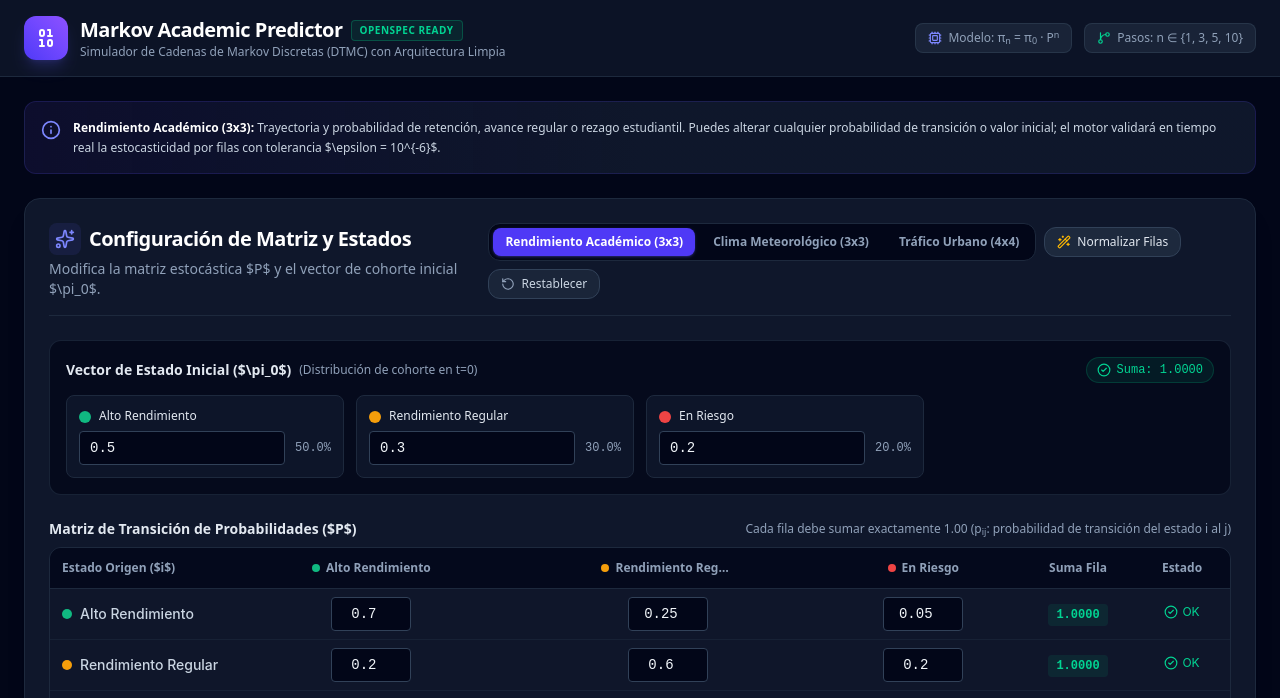
App Integration Tests (OpenSpec UI & Engine) › Restablece los valores al presionar el botón Restablecer
The width and height of the screenshot is (1280, 698).
# Modificar celda
Replace the text in the number field with test id "matrix-cell-0-0" with "0.99" at (371, 614), box [331,597,411,631]
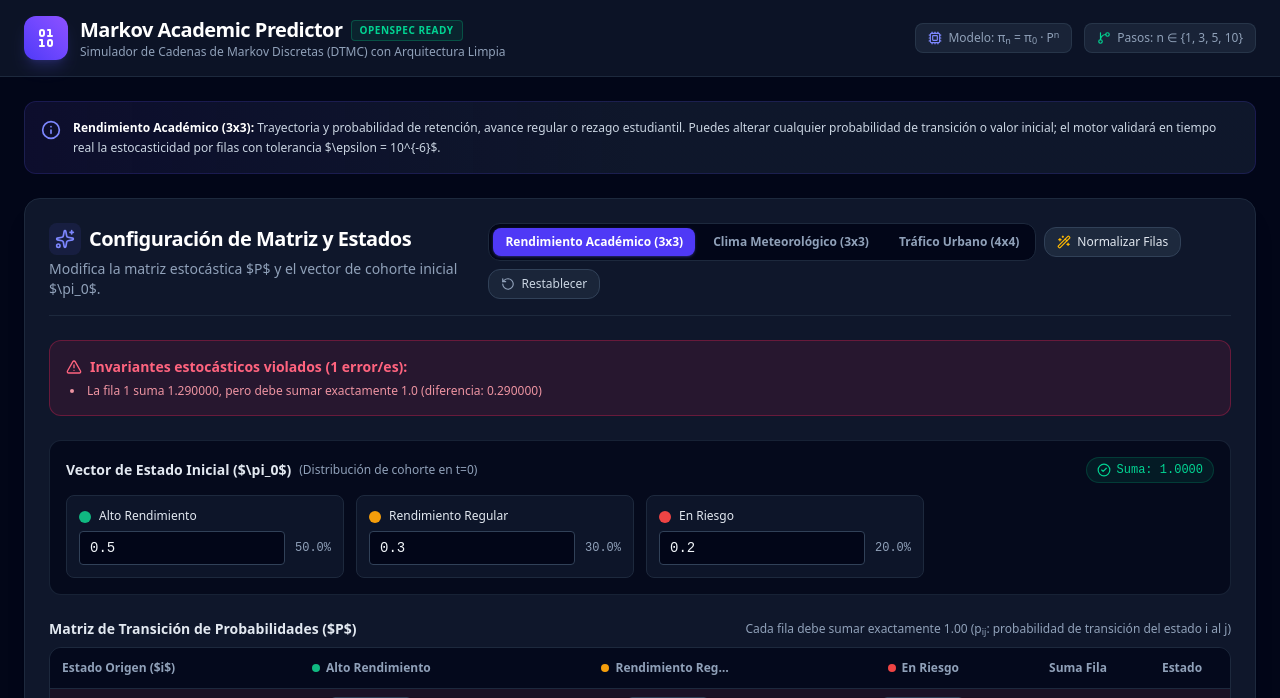
Result: the element with test id "validation-alert" is shown at [49,340,1231,416]
Click the button with test id "reset-btn".
click(544, 284)  # box [488,269,600,299]
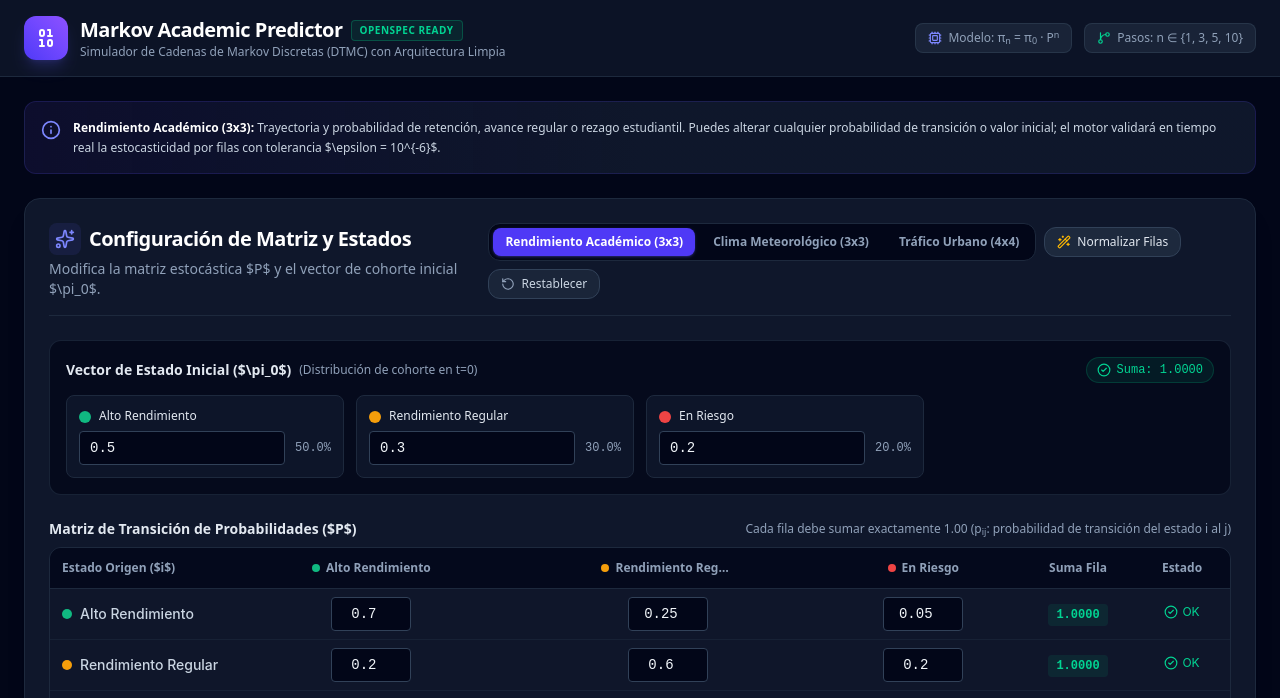
Result: the element with test id "validation-alert" is gone
Result: the number field with test id "matrix-cell-0-0" holds "0.7" at [331,597,411,631]
